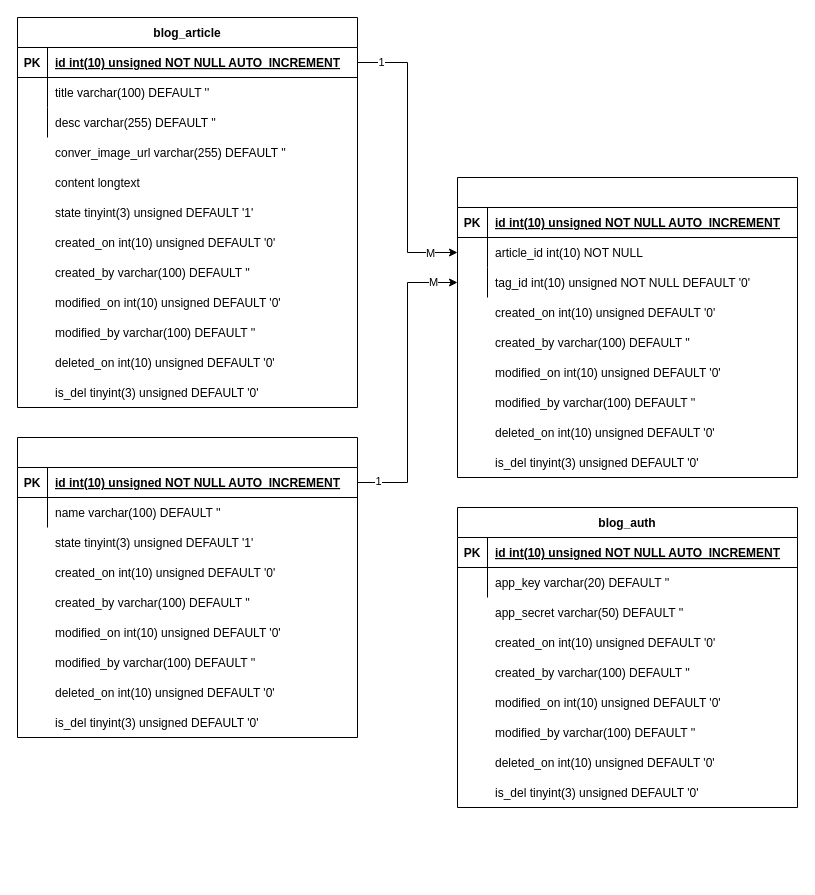
The diagram is 815 pixels wide and 895 high, and some of its shapes have lost their labels. Each missing label, with the box of its shape:
blog_article_tag: (456, 176, 798, 478)
blog_tag: (16, 436, 358, 738)
